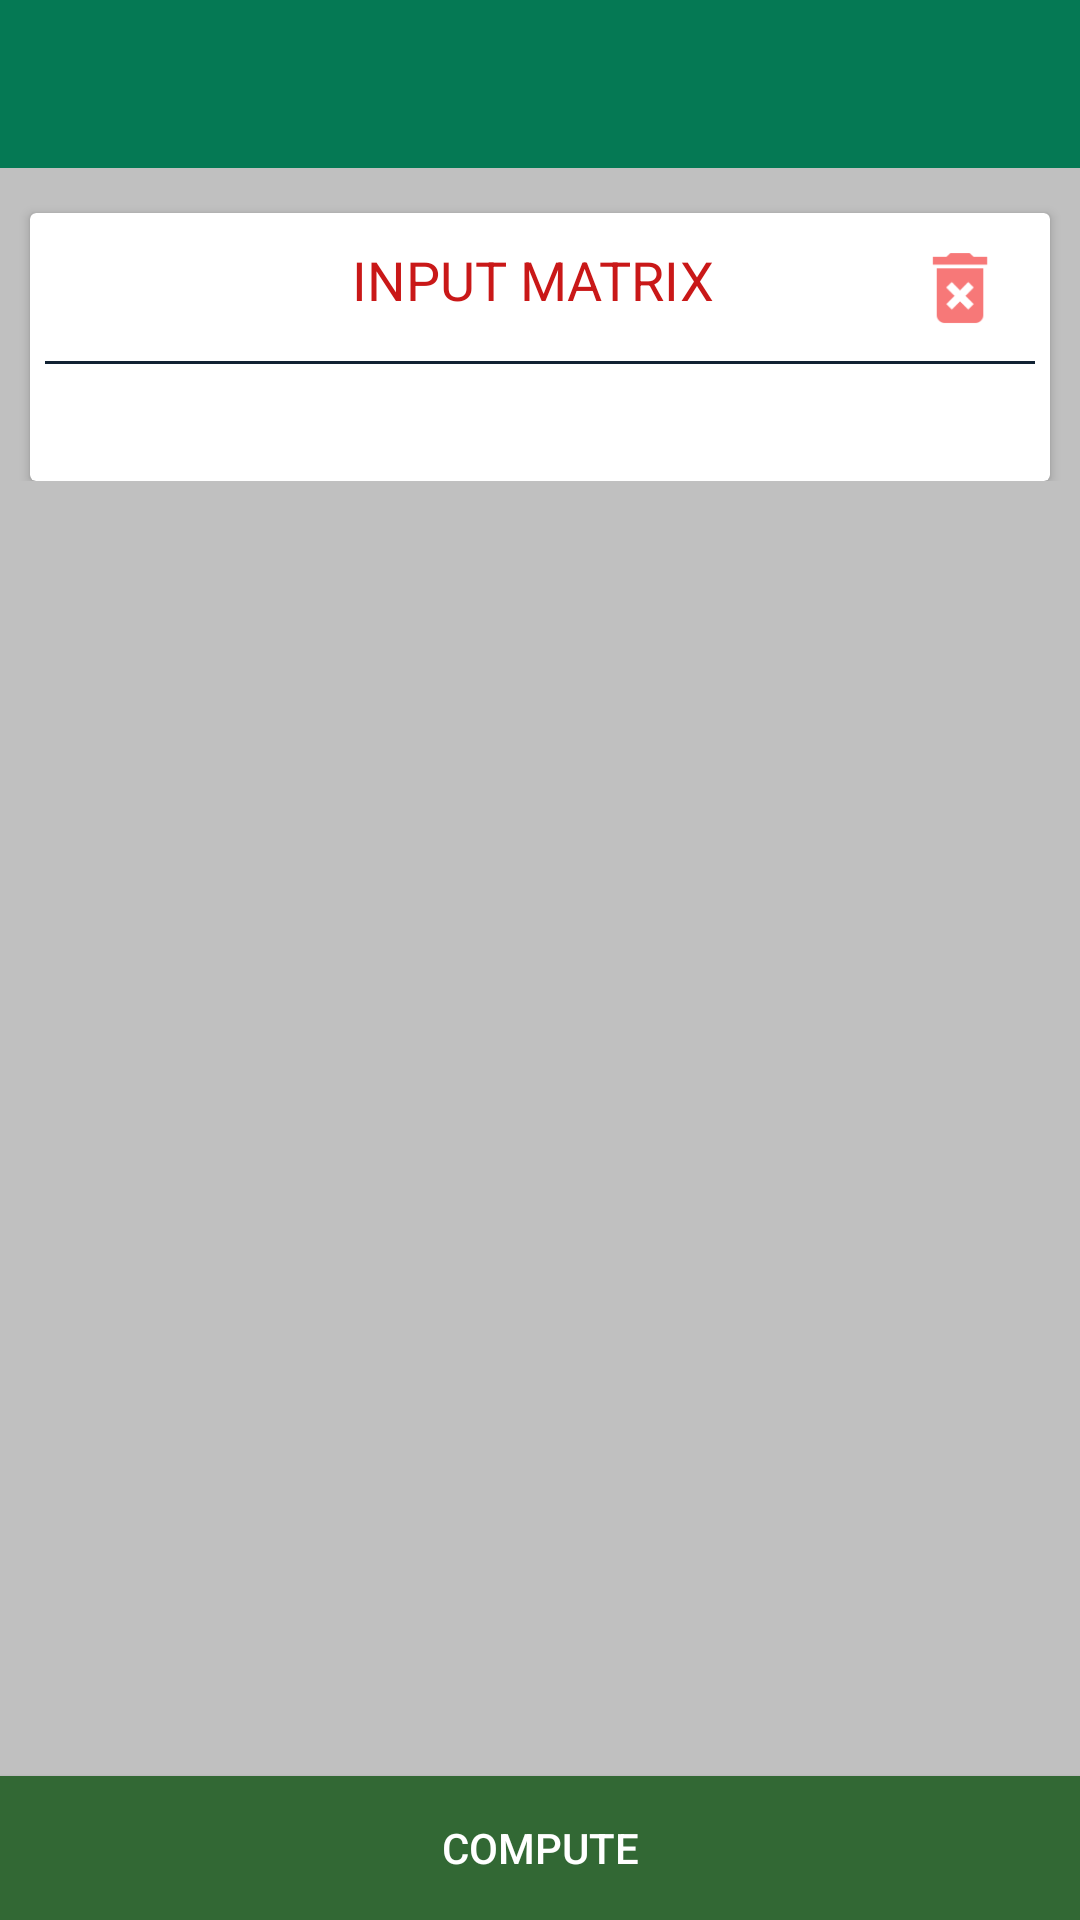

Locate icon controls on the screen. Image size 1080*1920, boxes as (x1, y1, x2, y2).
delete: (933, 253, 988, 323)
